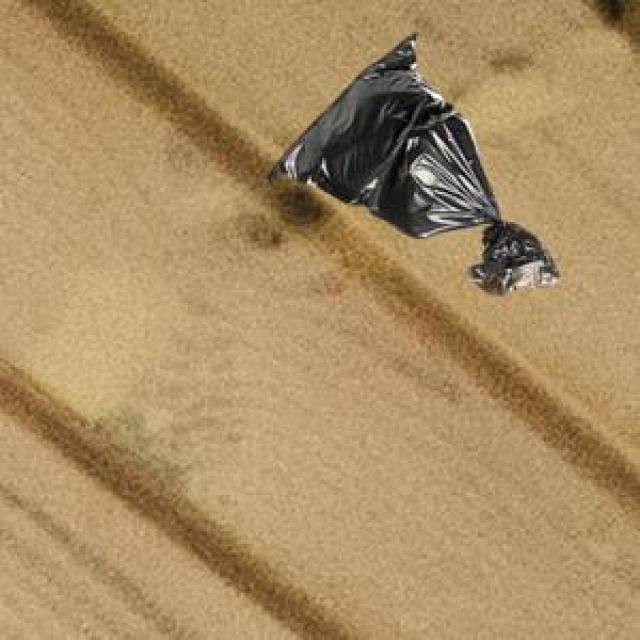miscellaneous trash: (262, 30, 555, 292)
